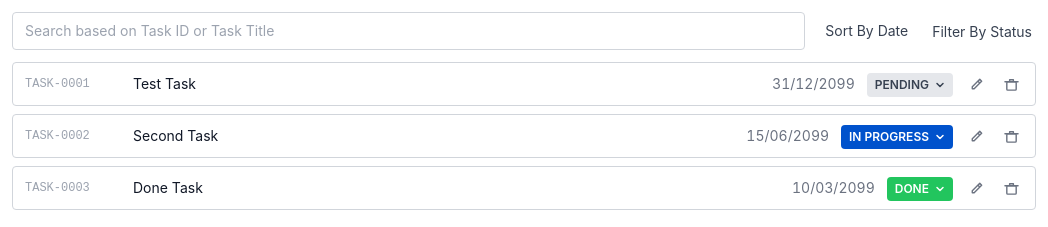
TaskList › sort by date › opens sort dropdown when Sort By Date is clicked
The image size is (1048, 227).
Click the button "Sort By Date": [867, 31] box left=821, top=21, right=912, bottom=41
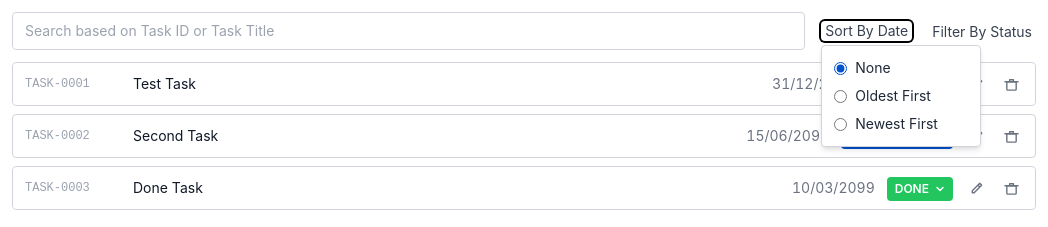
Check: the list named "sort order" is shown, box left=821, top=45, right=981, bottom=147
